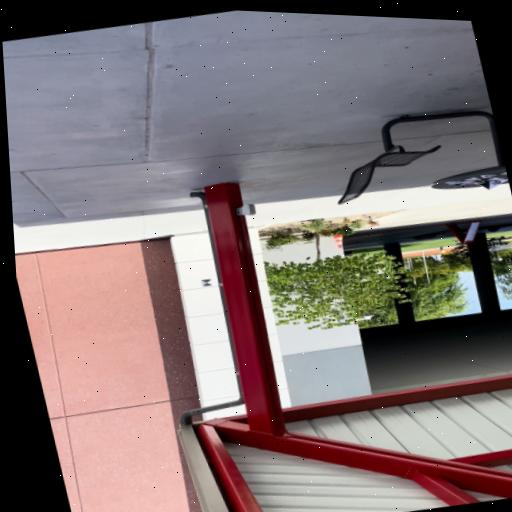target6: (200, 278, 212, 286)
